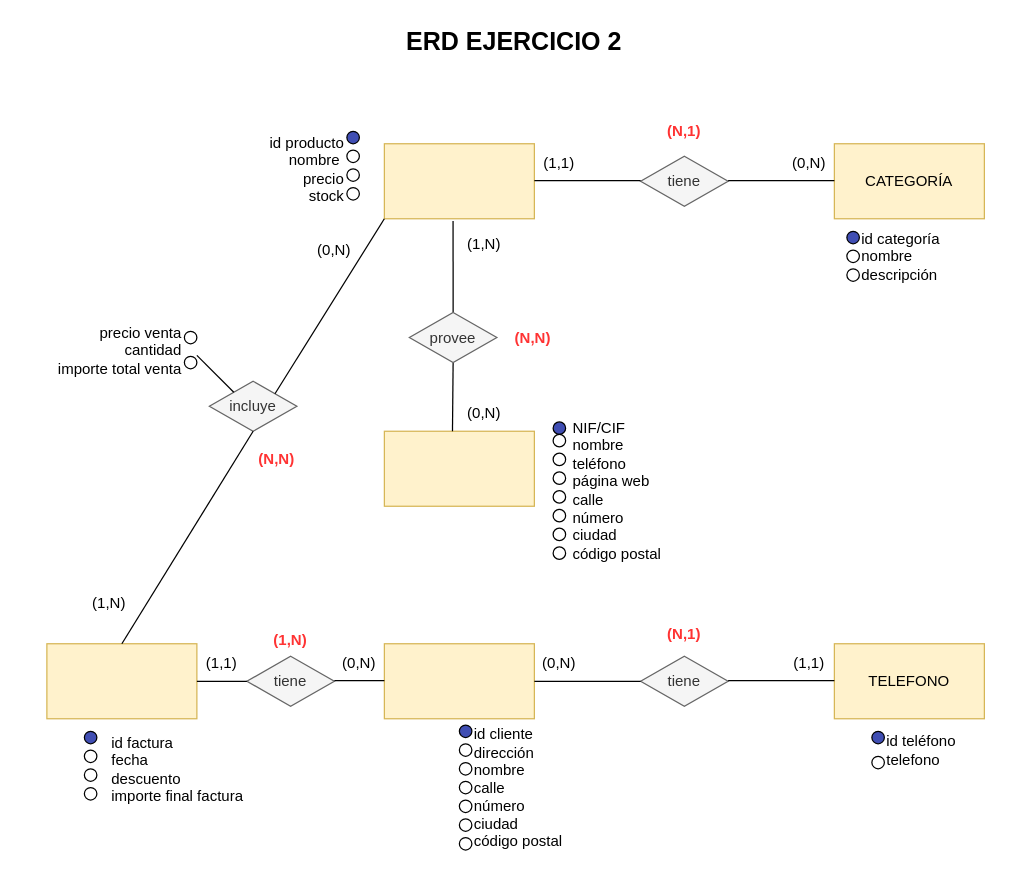
Image size: 1018x871. Some labels were removed from this diagram. Each missing label, with the centre of its shape:
"CLIENTE" belongs at [458,680].
"FACTURA" belongs at [121,680].
"PRODUCTO" belongs at [458,180].
"PROVEEDOR" belongs at [458,468].
